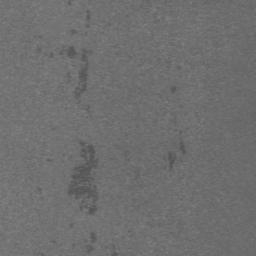Iron scale compression: (70, 145, 98, 215), (74, 50, 92, 100), (167, 152, 176, 172), (179, 134, 186, 155), (66, 46, 75, 58), (88, 232, 96, 245)
